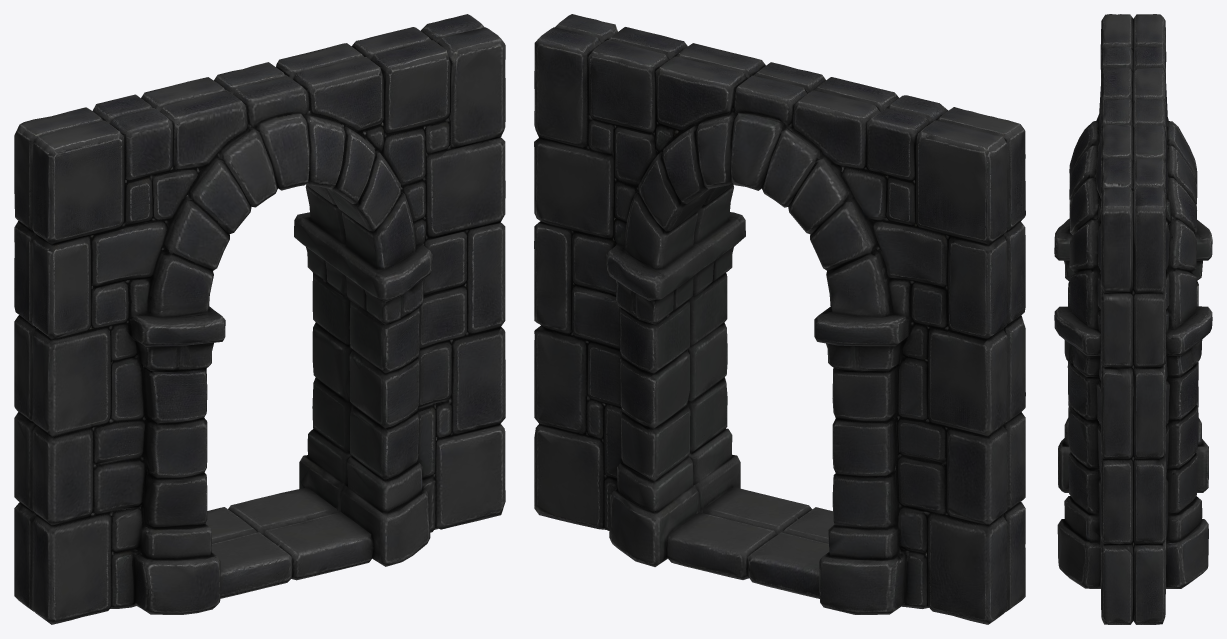
Rendered from Archway_Stone_Narrow.fbx.
3 renders of one model, left to right at view 1: azimuth 30°, elevation 25°; view 2: azimuth 150°, elevation 25°; view 3: azimuth 270°, elevation 25°, orthographic. The views are drawn at different scales.
Visible parts, largest first — view 1: Archway_Stone_Narrow; view 2: Archway_Stone_Narrow; view 3: Archway_Stone_Narrow.
Boxes of the visible parts, x1,y1,x2,y2 form: Archway_Stone_Narrow: (14,14,505,624); Archway_Stone_Narrow: (534,14,1025,624); Archway_Stone_Narrow: (1054,14,1212,624).
Size of the model in its own units: 302 by 301 by 103.
1 material, 1 textured.
